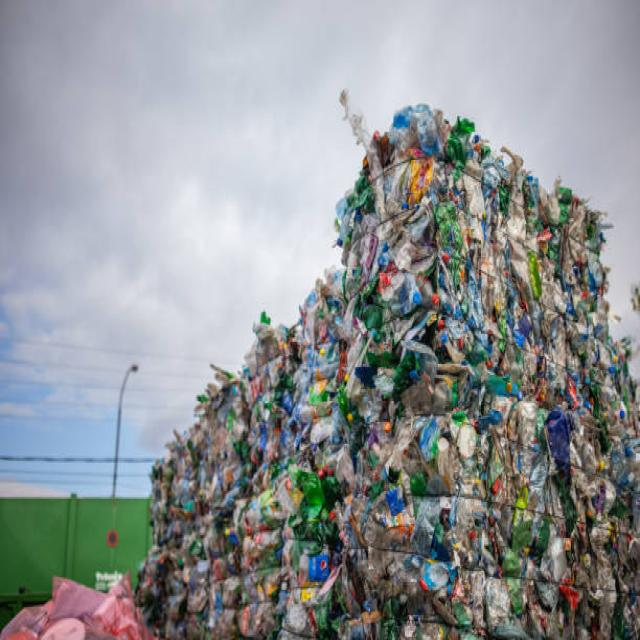plastic: (98, 122, 630, 636)
